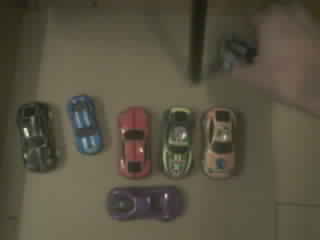Car: (17, 102, 56, 171), (107, 186, 182, 220), (200, 107, 235, 177), (160, 106, 194, 178), (118, 106, 151, 178), (67, 95, 103, 154)
